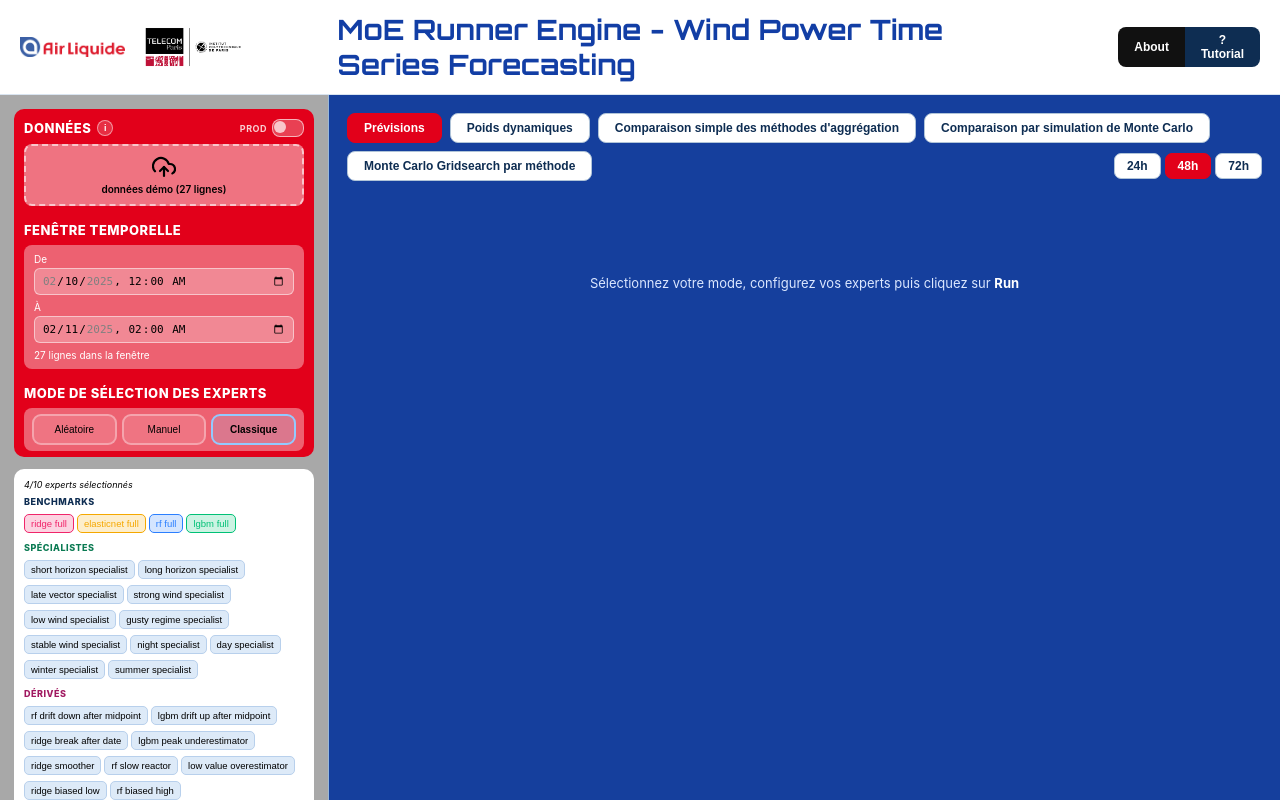
Test case: shows Monte Carlo prerequisites
Click the button "Comparaison par simulation de Monte Carlo" at (1067, 128), box x1=924 y1=113 x2=1210 y2=143
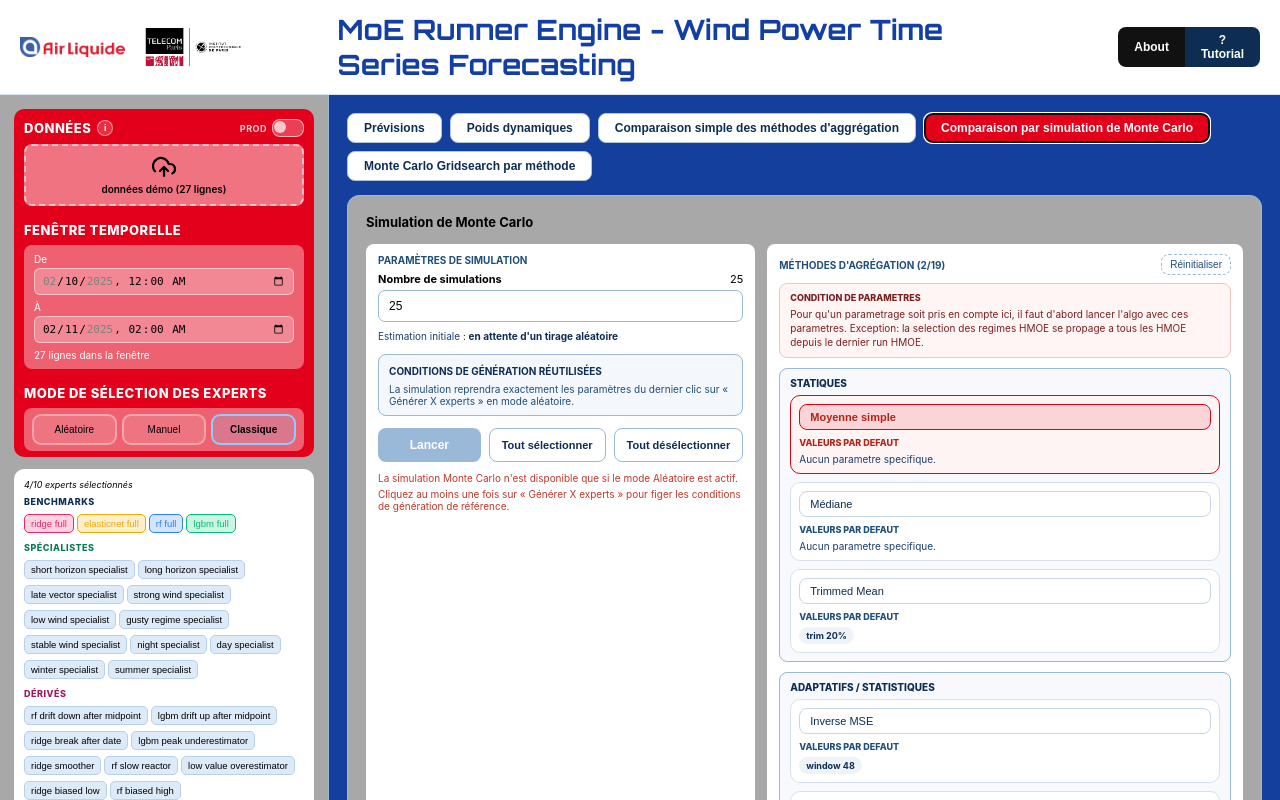
Check: the text "mode Aléatoire est actif" is shown, box x1=378 y1=472 x2=738 y2=484
Check: the text "figer les conditions de génération de référence" is shown, box x1=378 y1=488 x2=741 y2=512
